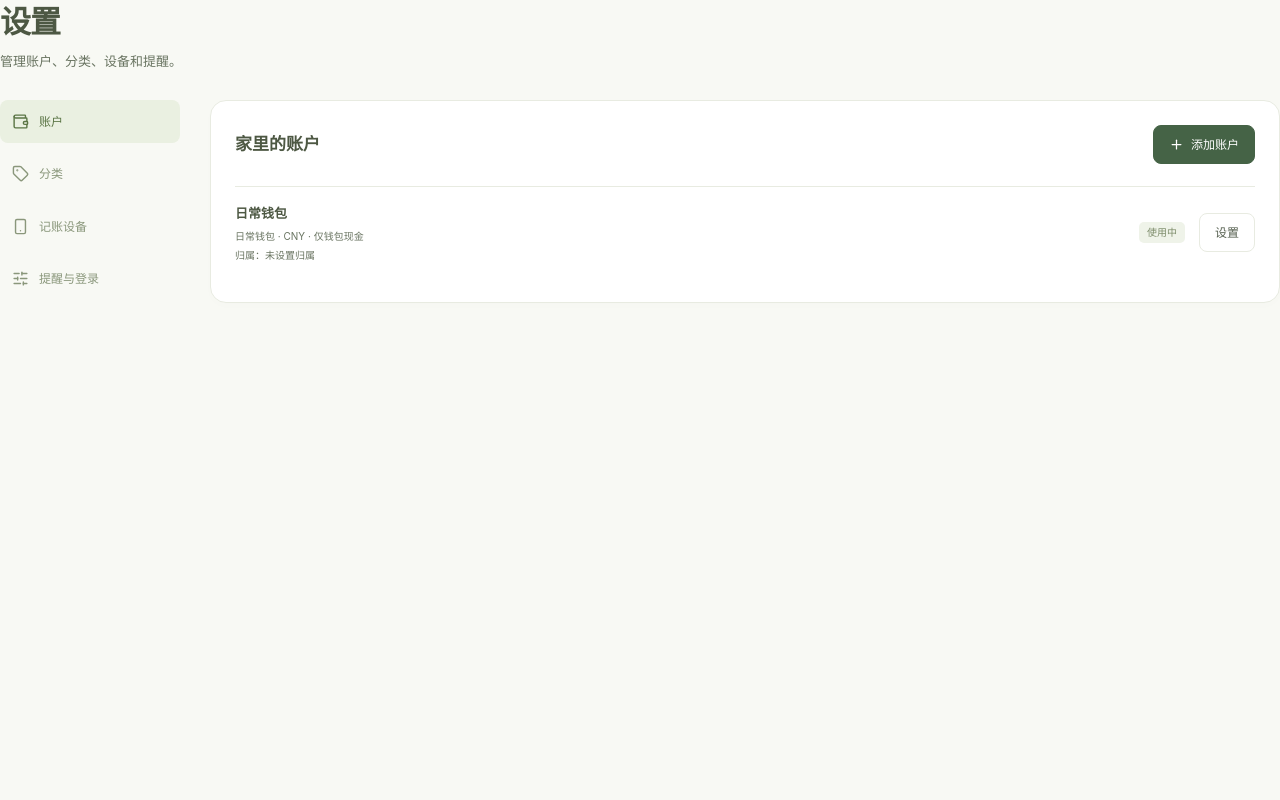
Test: provisions the selected device platform ios_shortcuts and keeps iPhone as default
The width and height of the screenshot is (1280, 800).
Click the button "记账设备" at (90,226), box [0,205,180,248]
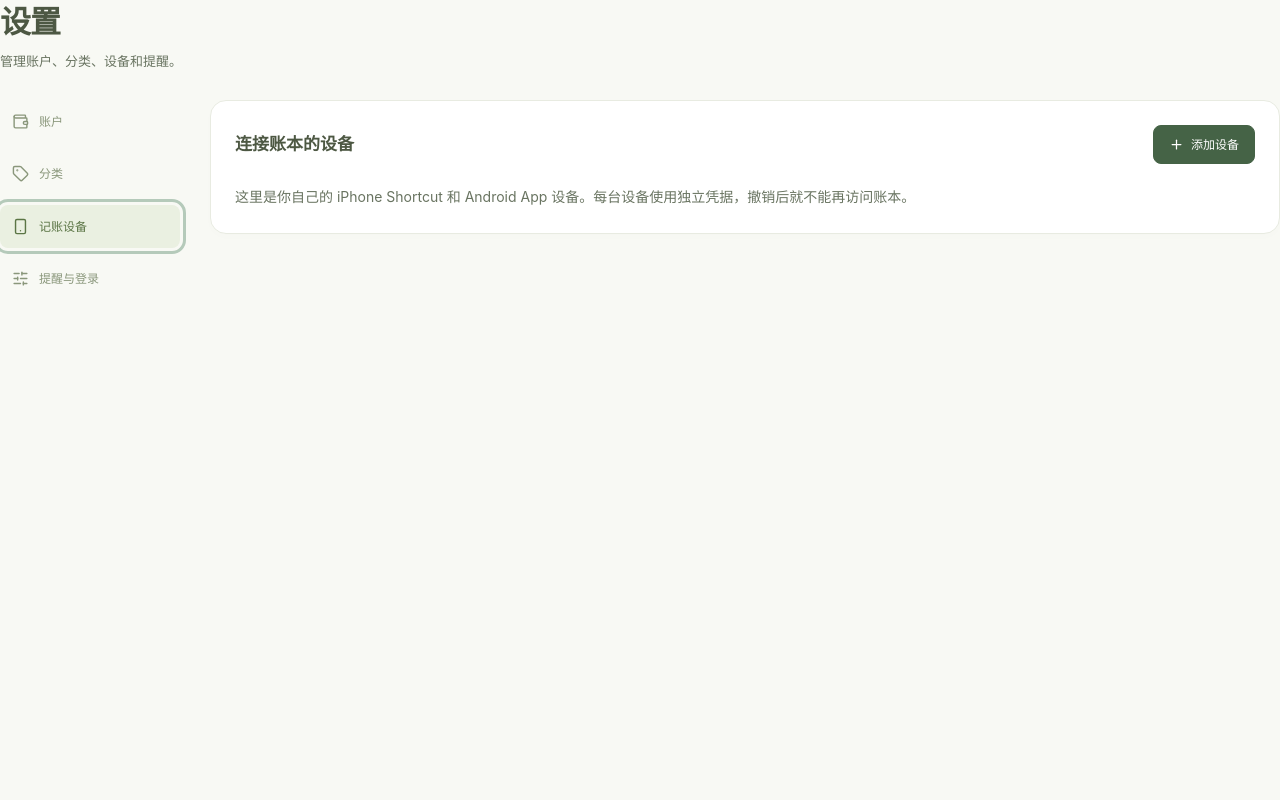
Click the button "添加设备" at (1204,145), box [1153,125,1255,164]
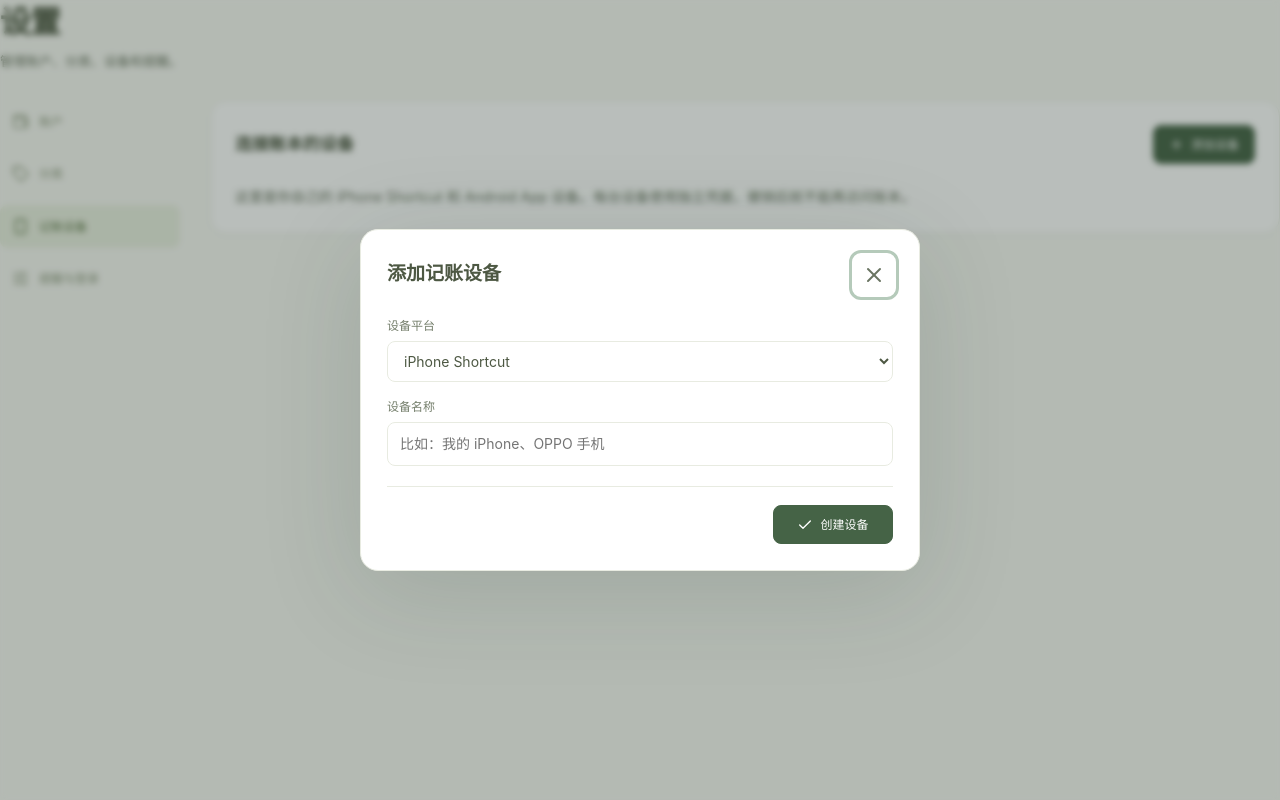
Now the dropdown labelled "设备平台" shows "iPhone Shortcut", box [387,341,893,382]
Type "合成测试手机" into the field labelled "设备名称" at (640,444), box [387,422,893,466]
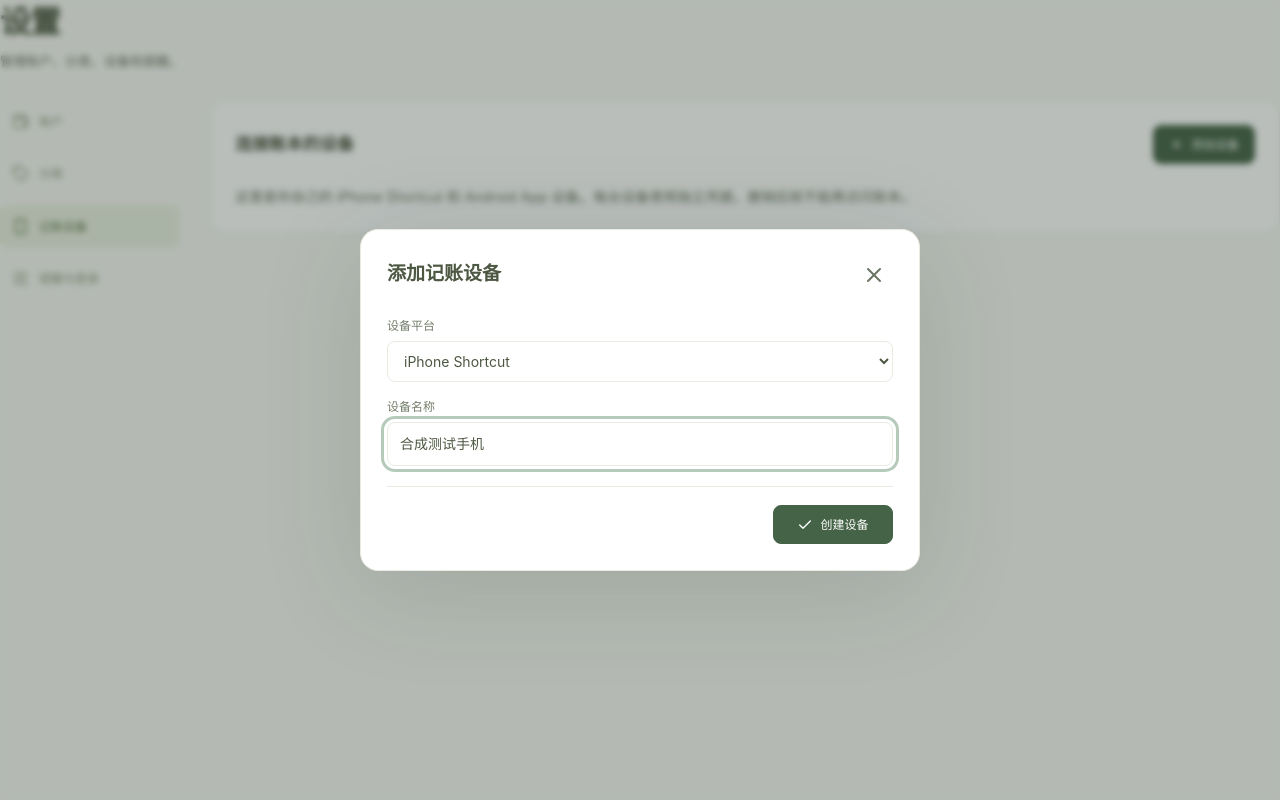
Click the button "创建设备" at (833,525), box [773,505,893,544]
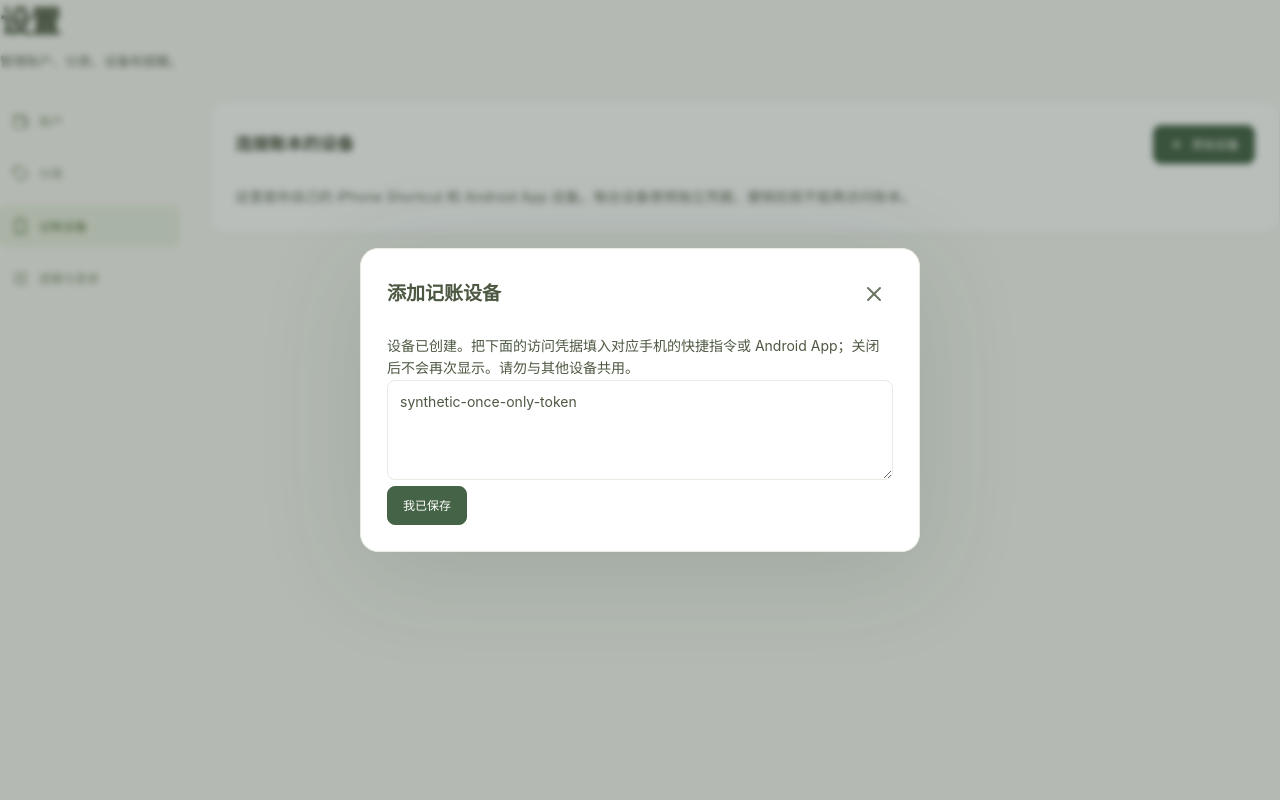
Now the text box named "设备访问凭据" holds "synthetic-once-only-token", box [387,380,893,480]
